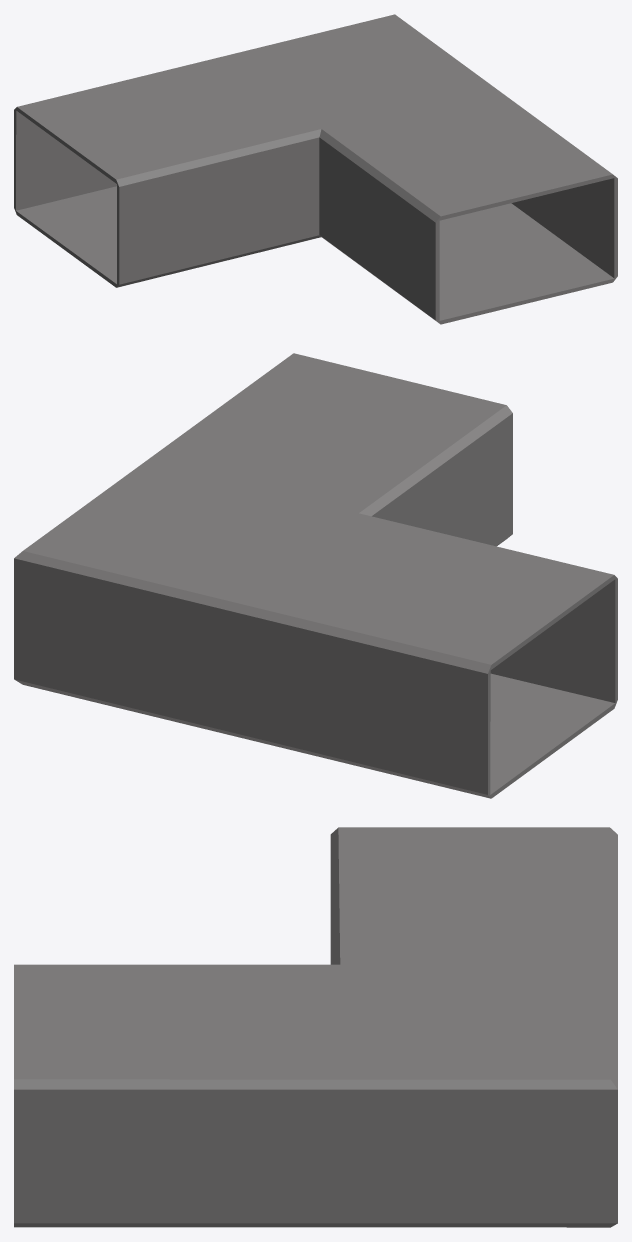
File: SM_PipeCorner.fbx
The picture shows the model from 3 angles, top to bottom: view 1: azimuth 30°, elevation 25°; view 2: azimuth 150°, elevation 25°; view 3: azimuth 270°, elevation 25°; orthographic projection. The views are drawn at different scales.
Parts seen in each view (by area): view 1: Cube.004; view 2: Cube.004; view 3: Cube.004.
Part boxes in pixels (x1,y1,x2,y2): Cube.004: (14,14,617,324); Cube.004: (14,353,617,798); Cube.004: (14,827,617,1227).
Size of the model in its own units: 100 by 100 by 27.
